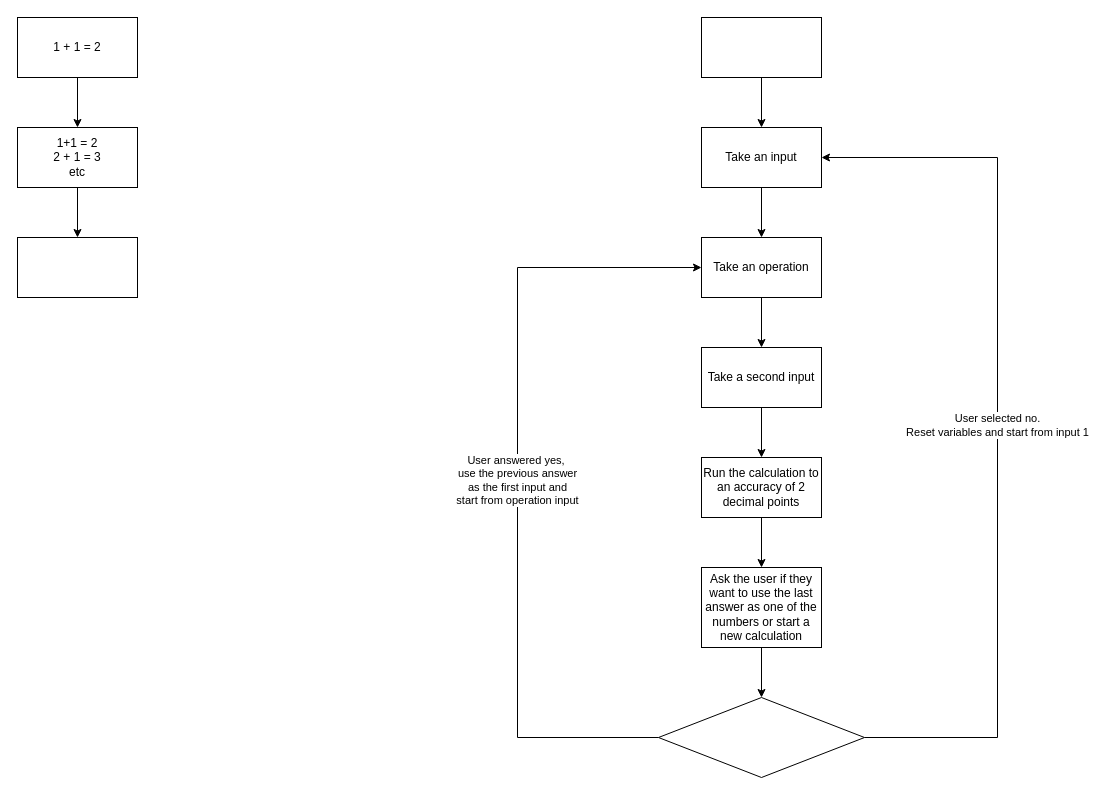
This 1106x795 diagram has some shape labels left out. The shapes that lost their labels are listed below. From the top down, each one's box as (x1, y1, x2, y2) in pixels, then its label:
(700, 16, 822, 78): Display Art
(16, 236, 138, 298): In the end we just print the previous calculations for reference
(658, 696, 864, 778): Yes/No
